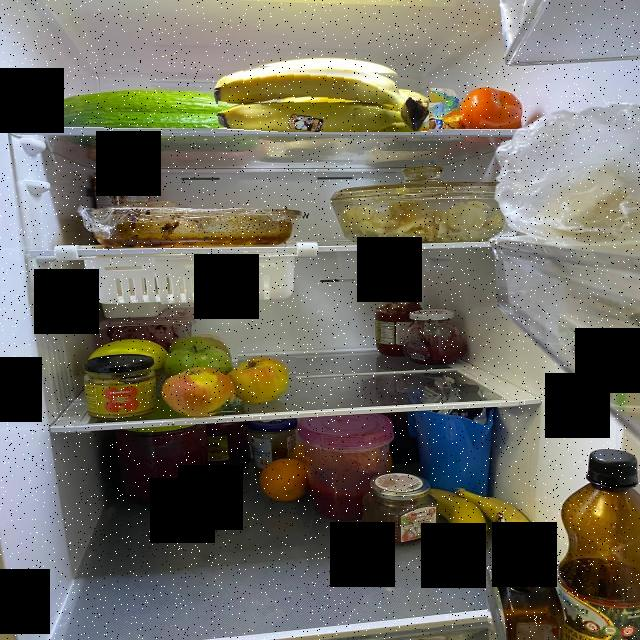Apple: (156, 366, 239, 416), (228, 357, 296, 402), (170, 331, 238, 367), (166, 343, 236, 375)
Banana: (218, 63, 430, 132), (412, 475, 490, 557), (456, 479, 552, 530), (464, 86, 522, 126), (446, 101, 474, 129)
Cucumber: (42, 87, 252, 112), (36, 108, 255, 129)
Orange: (257, 461, 315, 502), (285, 443, 320, 465)
